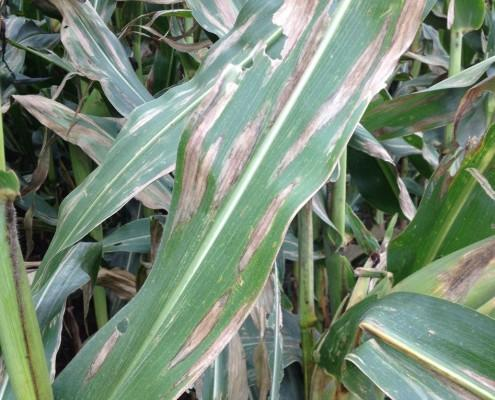Corn_Blight: (175, 4, 442, 277), (11, 82, 128, 188), (156, 292, 272, 392), (42, 5, 139, 79), (55, 305, 132, 386), (452, 226, 491, 322), (458, 61, 487, 178)
